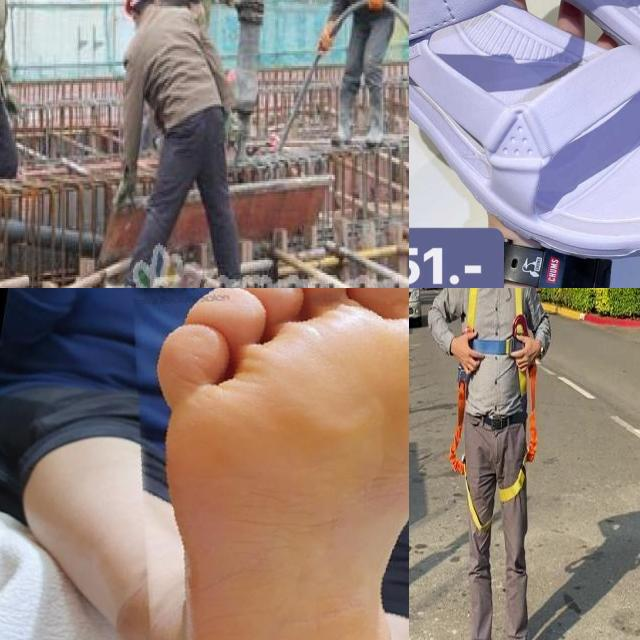Barefoots: (141, 288, 409, 640)
Harness: (466, 288, 539, 503), (450, 367, 483, 532)
Sandals: (409, 0, 640, 271)
hand_glove: (107, 163, 144, 210), (315, 21, 339, 54), (366, 0, 387, 12)
person: (111, 0, 250, 286), (307, 0, 409, 153)
shoes: (327, 77, 358, 149), (359, 80, 388, 151)
